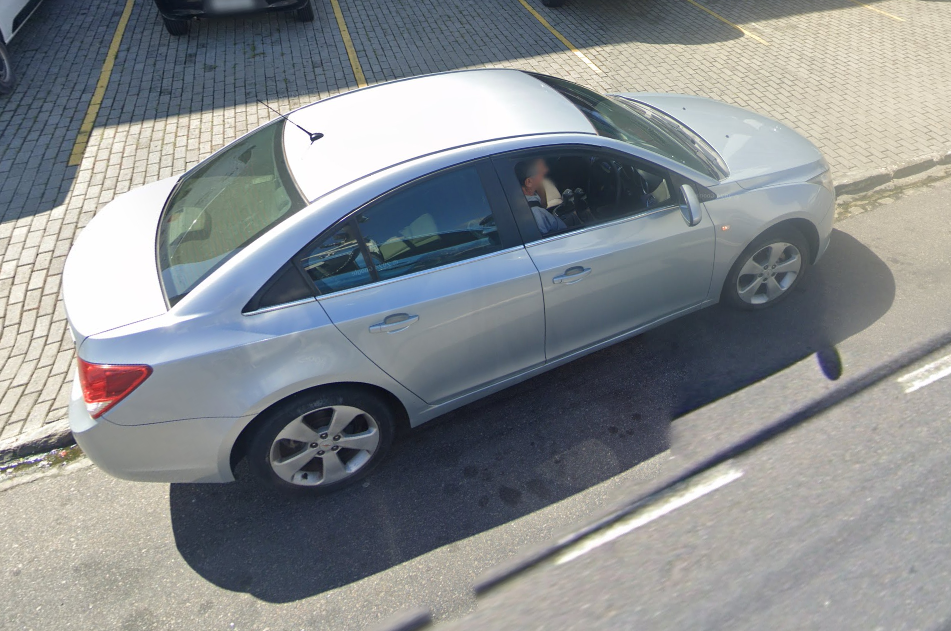car: (57, 61, 841, 504)
